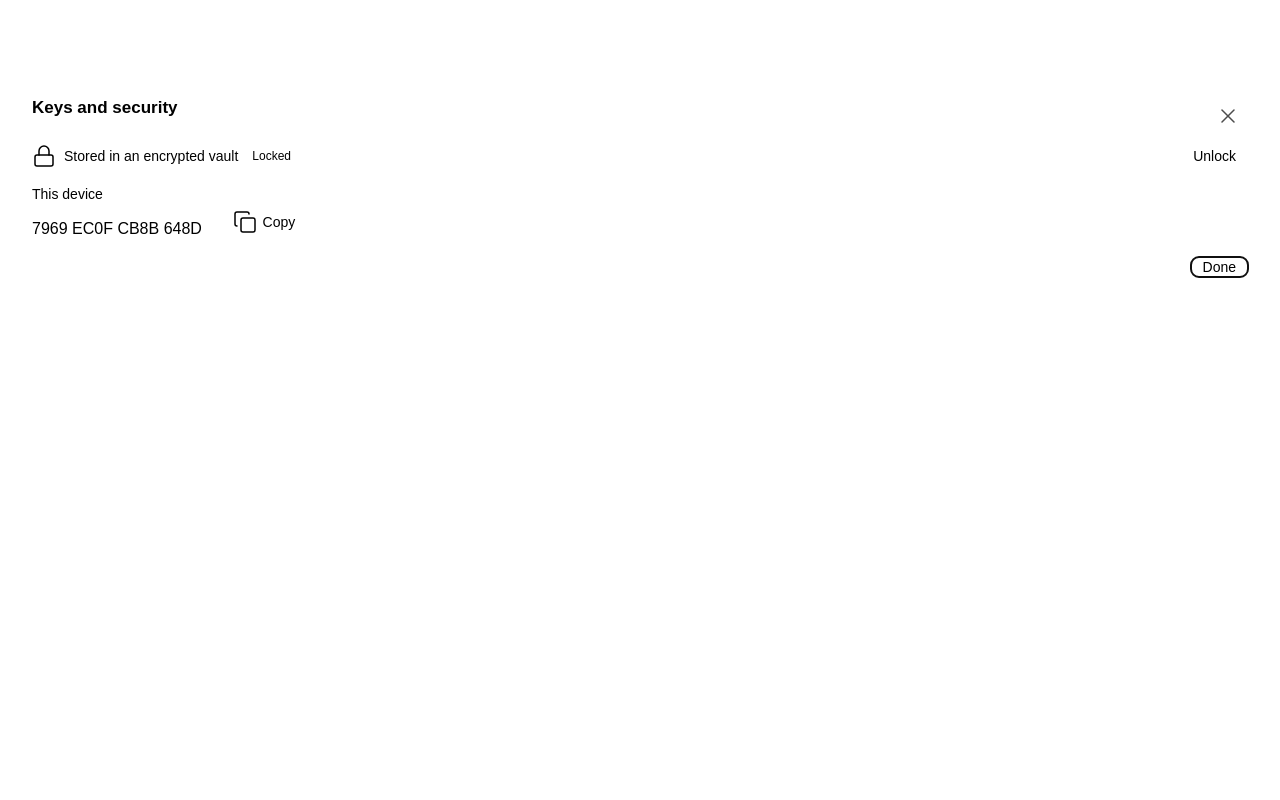
Test: KeysDialog › locks and unlocks a vault through the same IPC
This screenshot has width=1280, height=800.
Expected: the text "Stored in an encrypted vault" is shown, [64,146,238,166]
Expected: the text "Locked" is shown, [252,149,291,163]
Click the button "Unlock": click(1215, 156) [1181,146,1248,166]
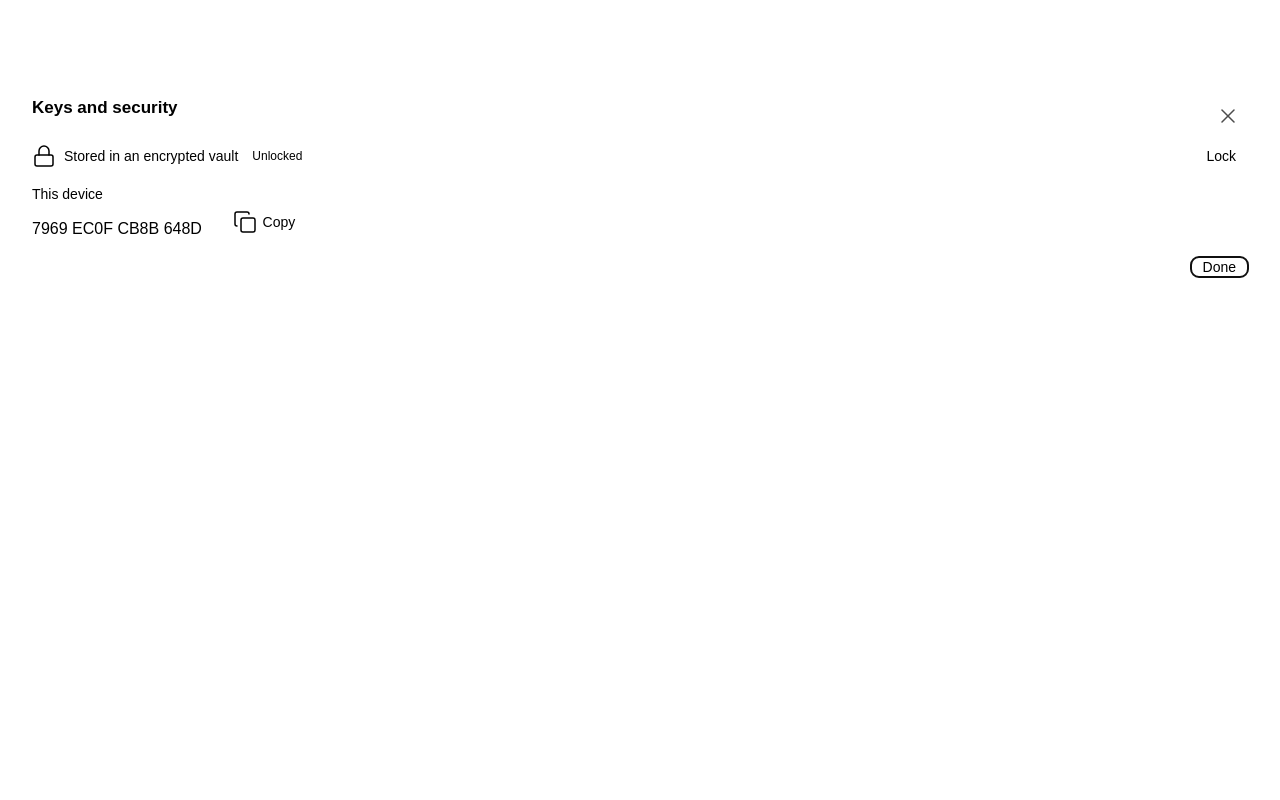
Expected: the button "Lock" is shown, [1194,146,1248,166]
Expected: the text "Unlocked" is shown, [252,149,302,163]
